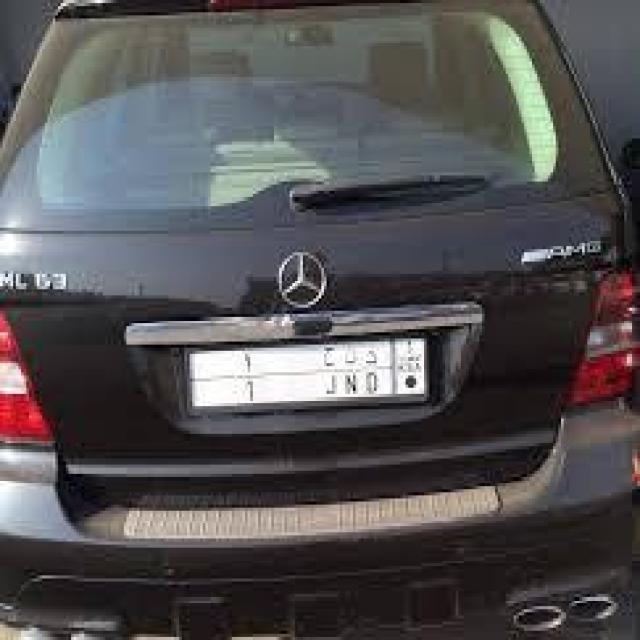license_plate: (166, 310, 437, 422)
